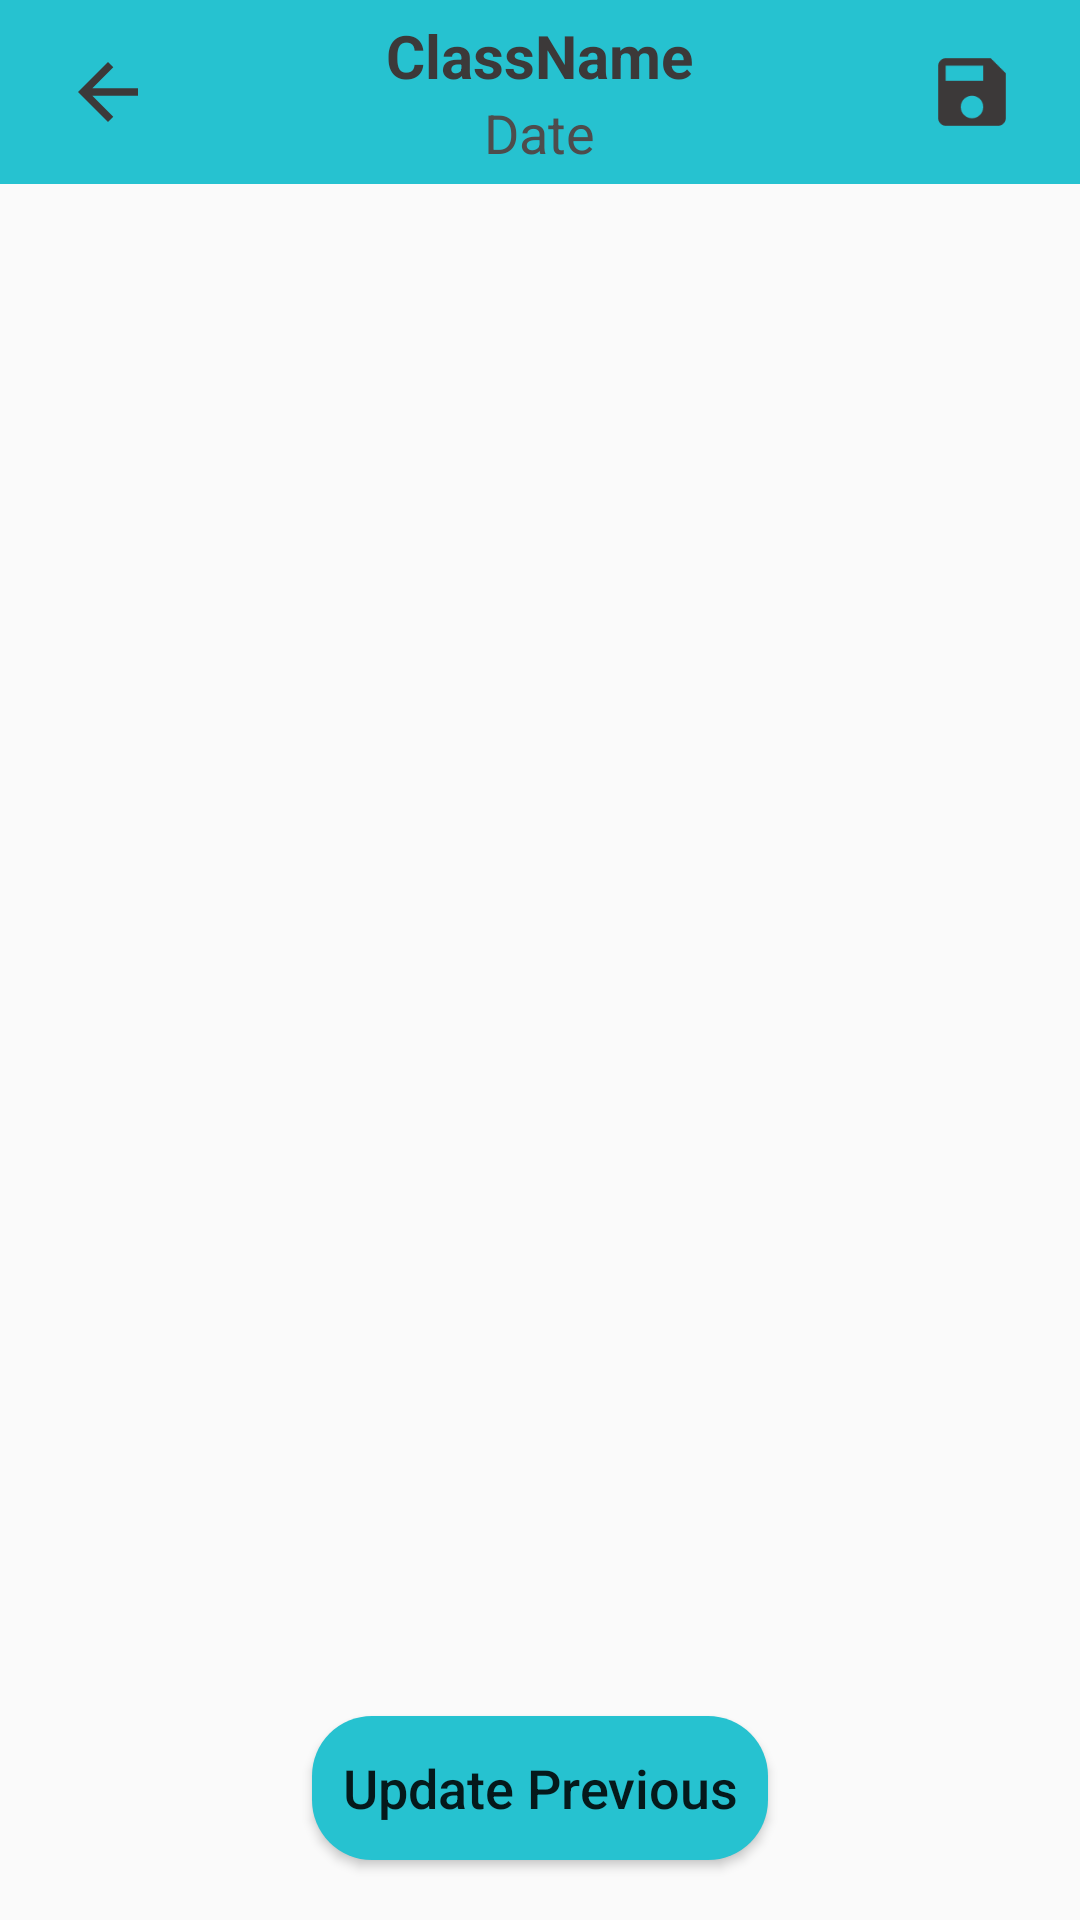

Screen size 1080px x 1920px. Icon name, then its box in pixels as (x1, y1, x2, y2):
arrow back: (78, 62, 138, 122)
save: (938, 58, 1006, 126)
